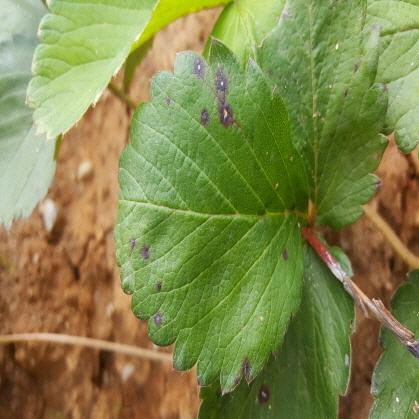Leaf Spot: (113, 34, 309, 394), (254, 0, 391, 230), (196, 230, 357, 418)
